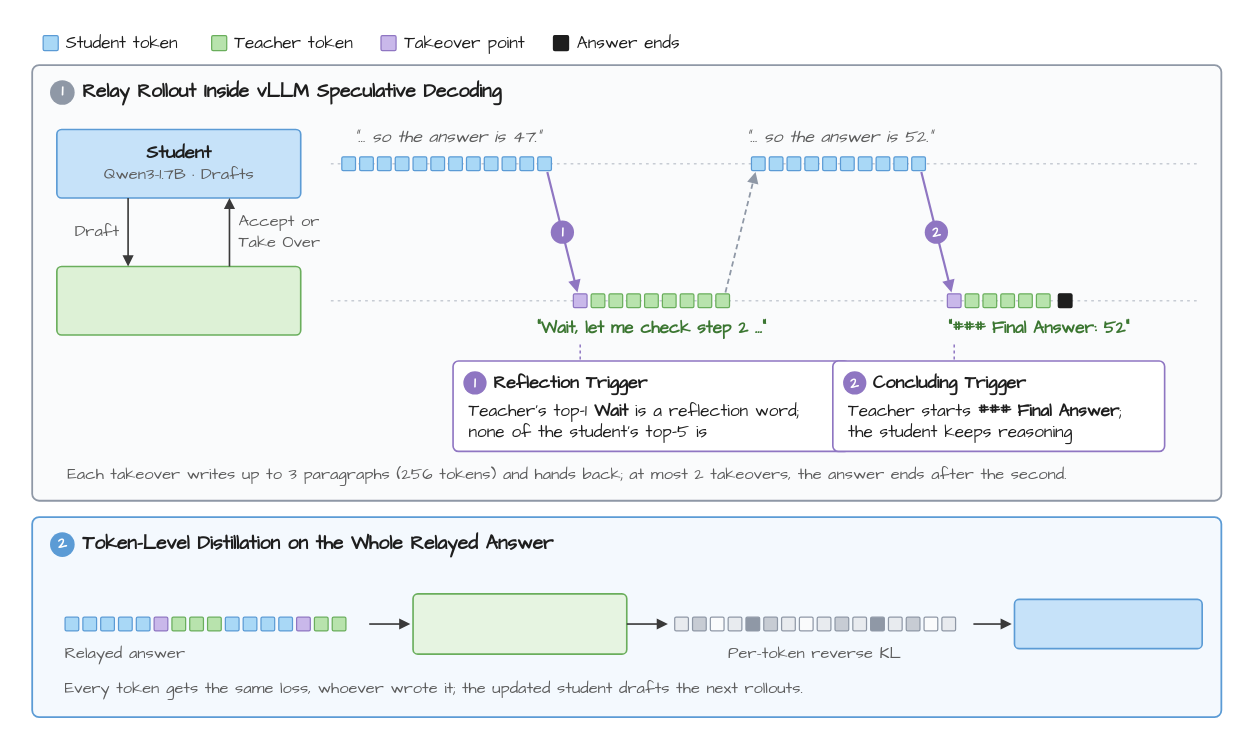
Some shapes in this 1252 by 748 pixel diagram are drawn without their labels. Each missing label, with the centre of its shape:
"Teacher Qwen3-4B · Verifies" belongs at point 178,300.
"Teacher Scorer separate GPU" belongs at point 519,623.
"Update the Student" belongs at point 1107,623.
